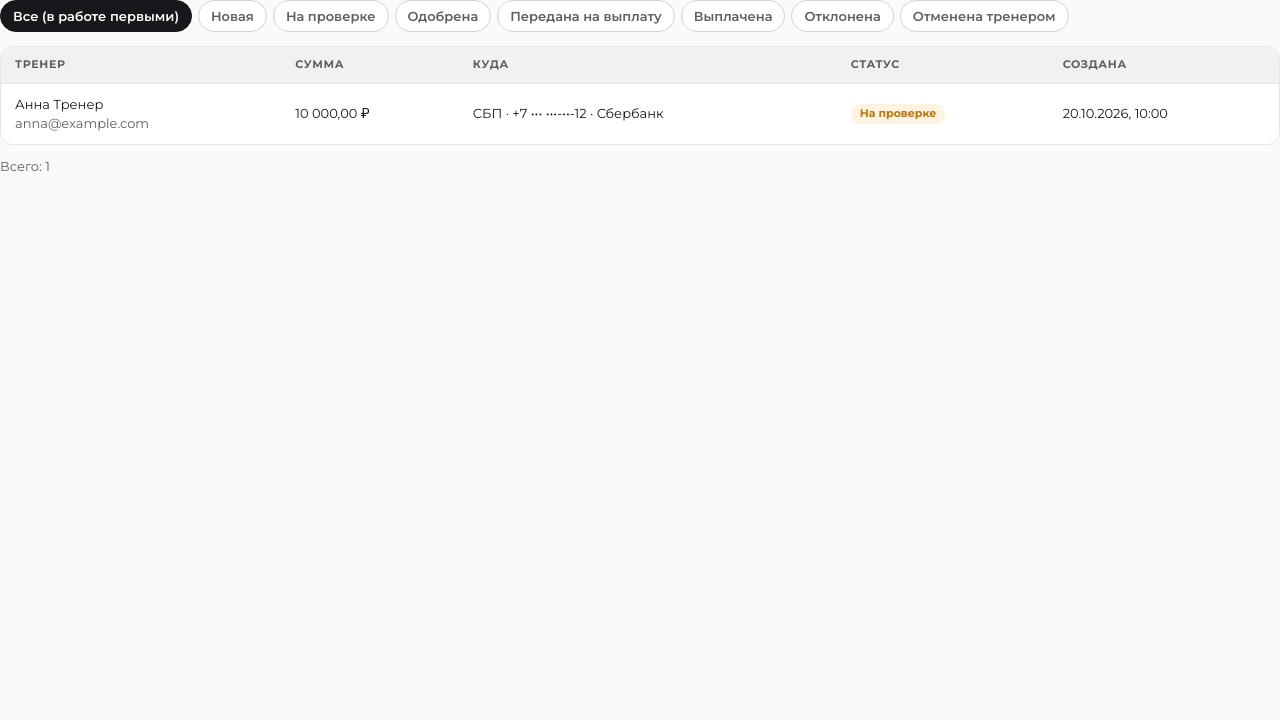
Test case: handling a withdrawal request › offers exactly the next step for each status
Click the text "Анна Тренер": click(141, 114) [1,83,281,144]
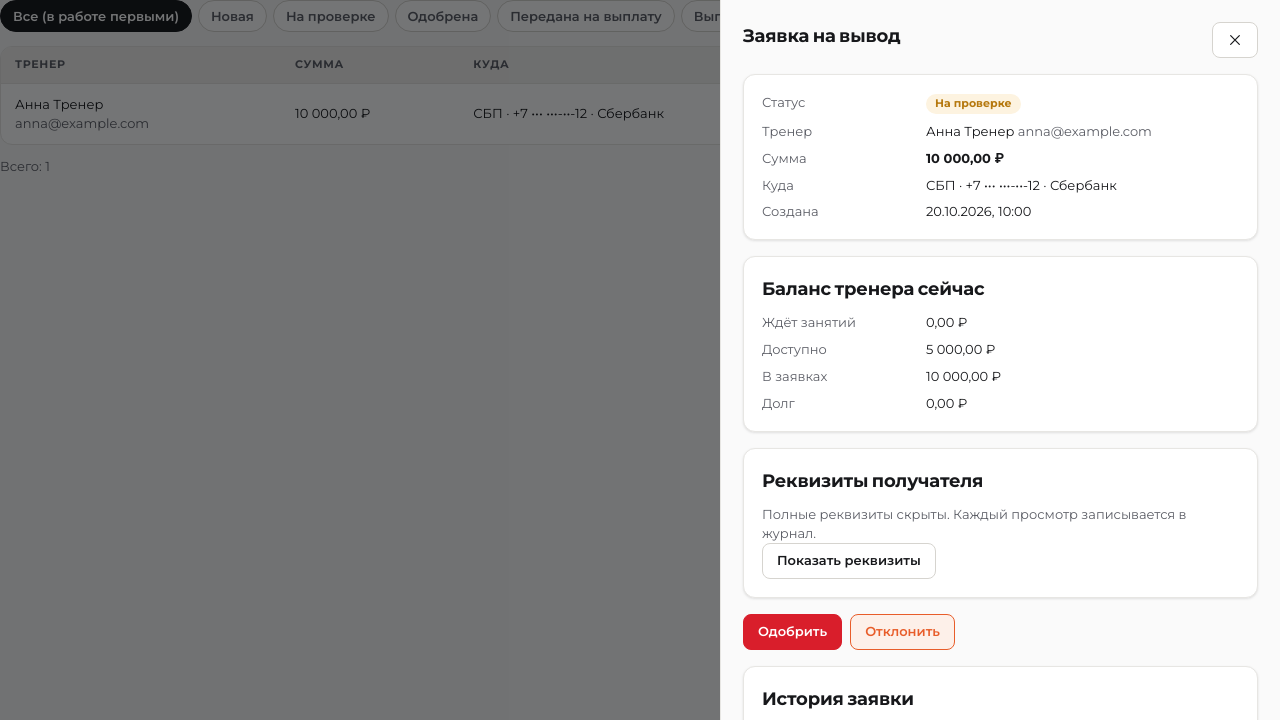
Now the button "Одобрить" is shown, box [743,614,842,650]
